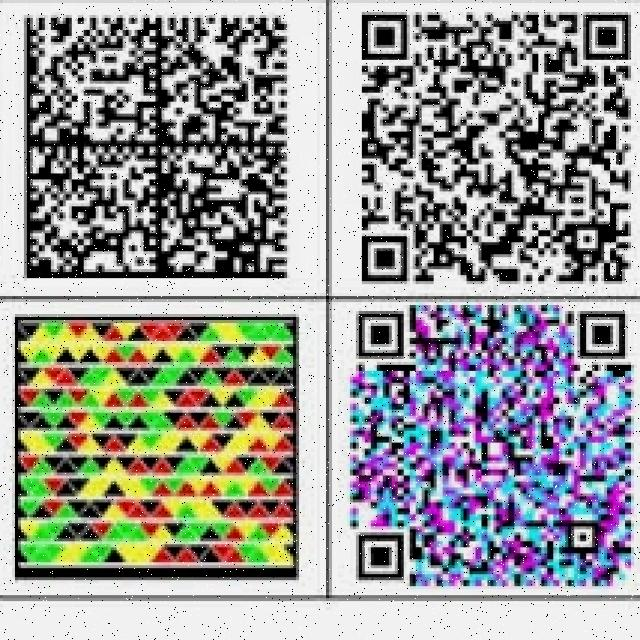datamatrix: (18, 9, 293, 284)
